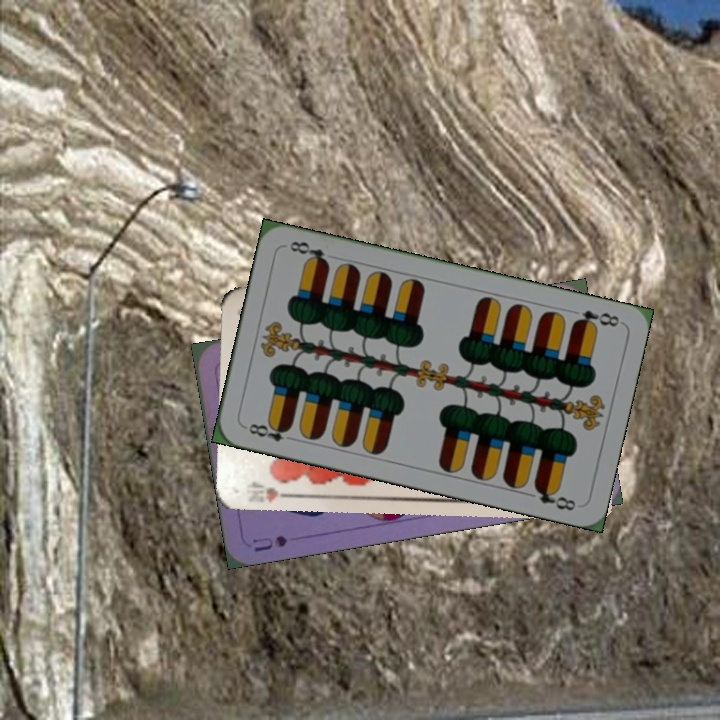E8: (240, 418, 299, 444), (569, 306, 624, 332)
H10: (240, 477, 297, 504)
SU: (248, 531, 290, 554)
